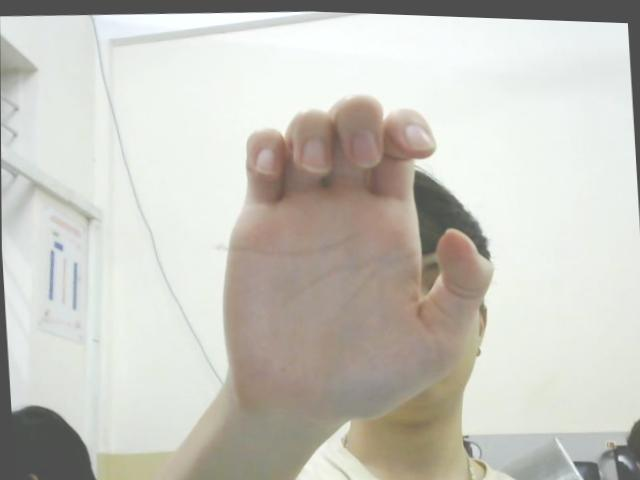E: (206, 77, 504, 431)
